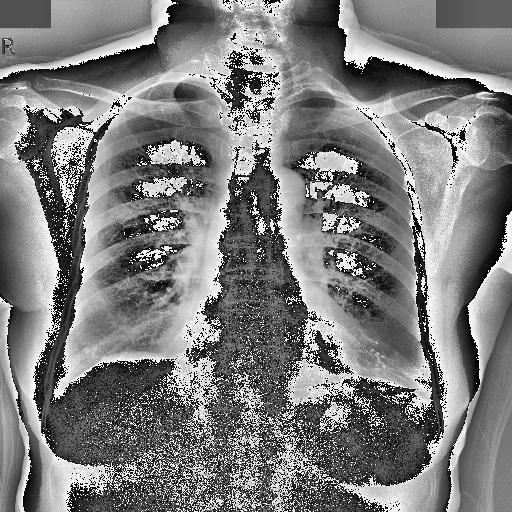13- Pulmonary fibrosis: (378, 362, 433, 396), (396, 368, 432, 391), (402, 368, 432, 386)
3- Cardiomegaly: (164, 303, 380, 377), (166, 309, 400, 372), (158, 312, 376, 378)
9- Other lesion: (250, 26, 300, 138), (246, 44, 298, 146)
